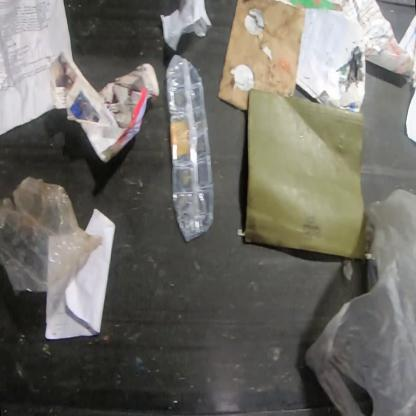cardboard: (243, 88, 367, 260), (217, 0, 306, 112)
rigid_plastic: (165, 55, 216, 242)
soft_plastic: (302, 186, 416, 416), (0, 178, 103, 292)
